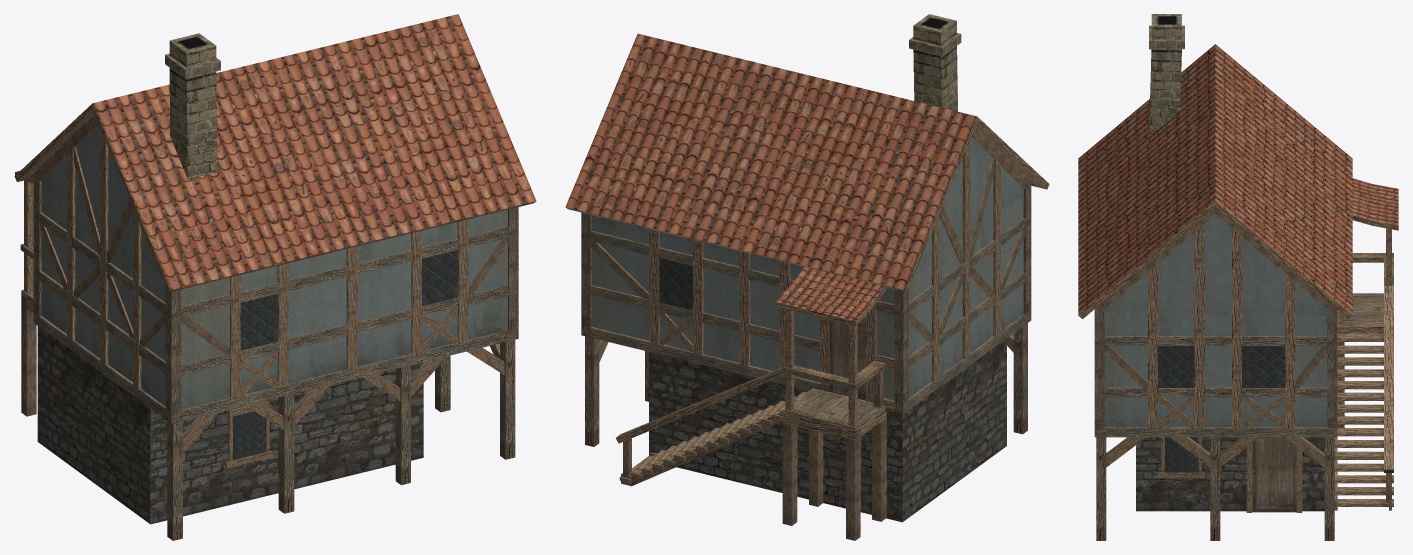
The model's file is house2.glb.
3 views of the same model, side by side, from view 1: azimuth 30°, elevation 25°; view 2: azimuth 150°, elevation 25°; view 3: azimuth 270°, elevation 25° (orthographic). The views are drawn at different scales.
Parts seen in each view (by area): view 1: Object_2; view 2: Object_2; view 3: Object_2.
Part boxes in pixels (bbox=[...]): Object_2: bbox=[14, 14, 536, 540]; Object_2: bbox=[565, 14, 1049, 540]; Object_2: bbox=[1078, 14, 1398, 540].
Size of the model in its own units: 9.37 by 11.12 by 8.08.
1 material, 1 textured.
